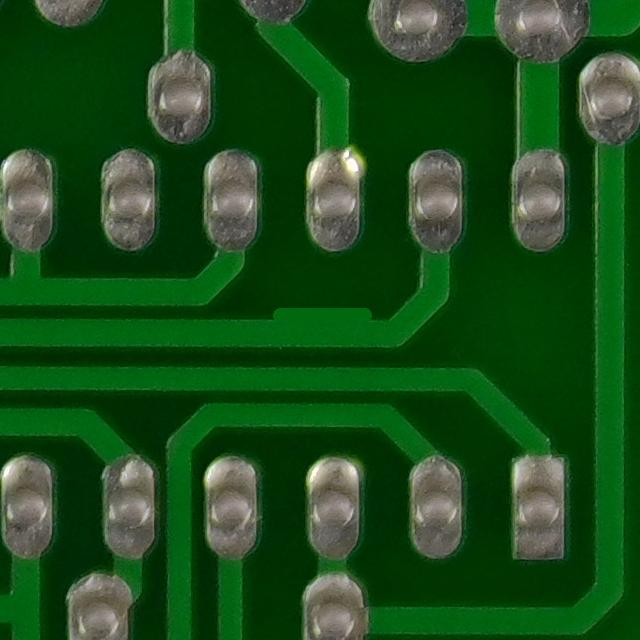spur: (241, 288, 399, 353)
